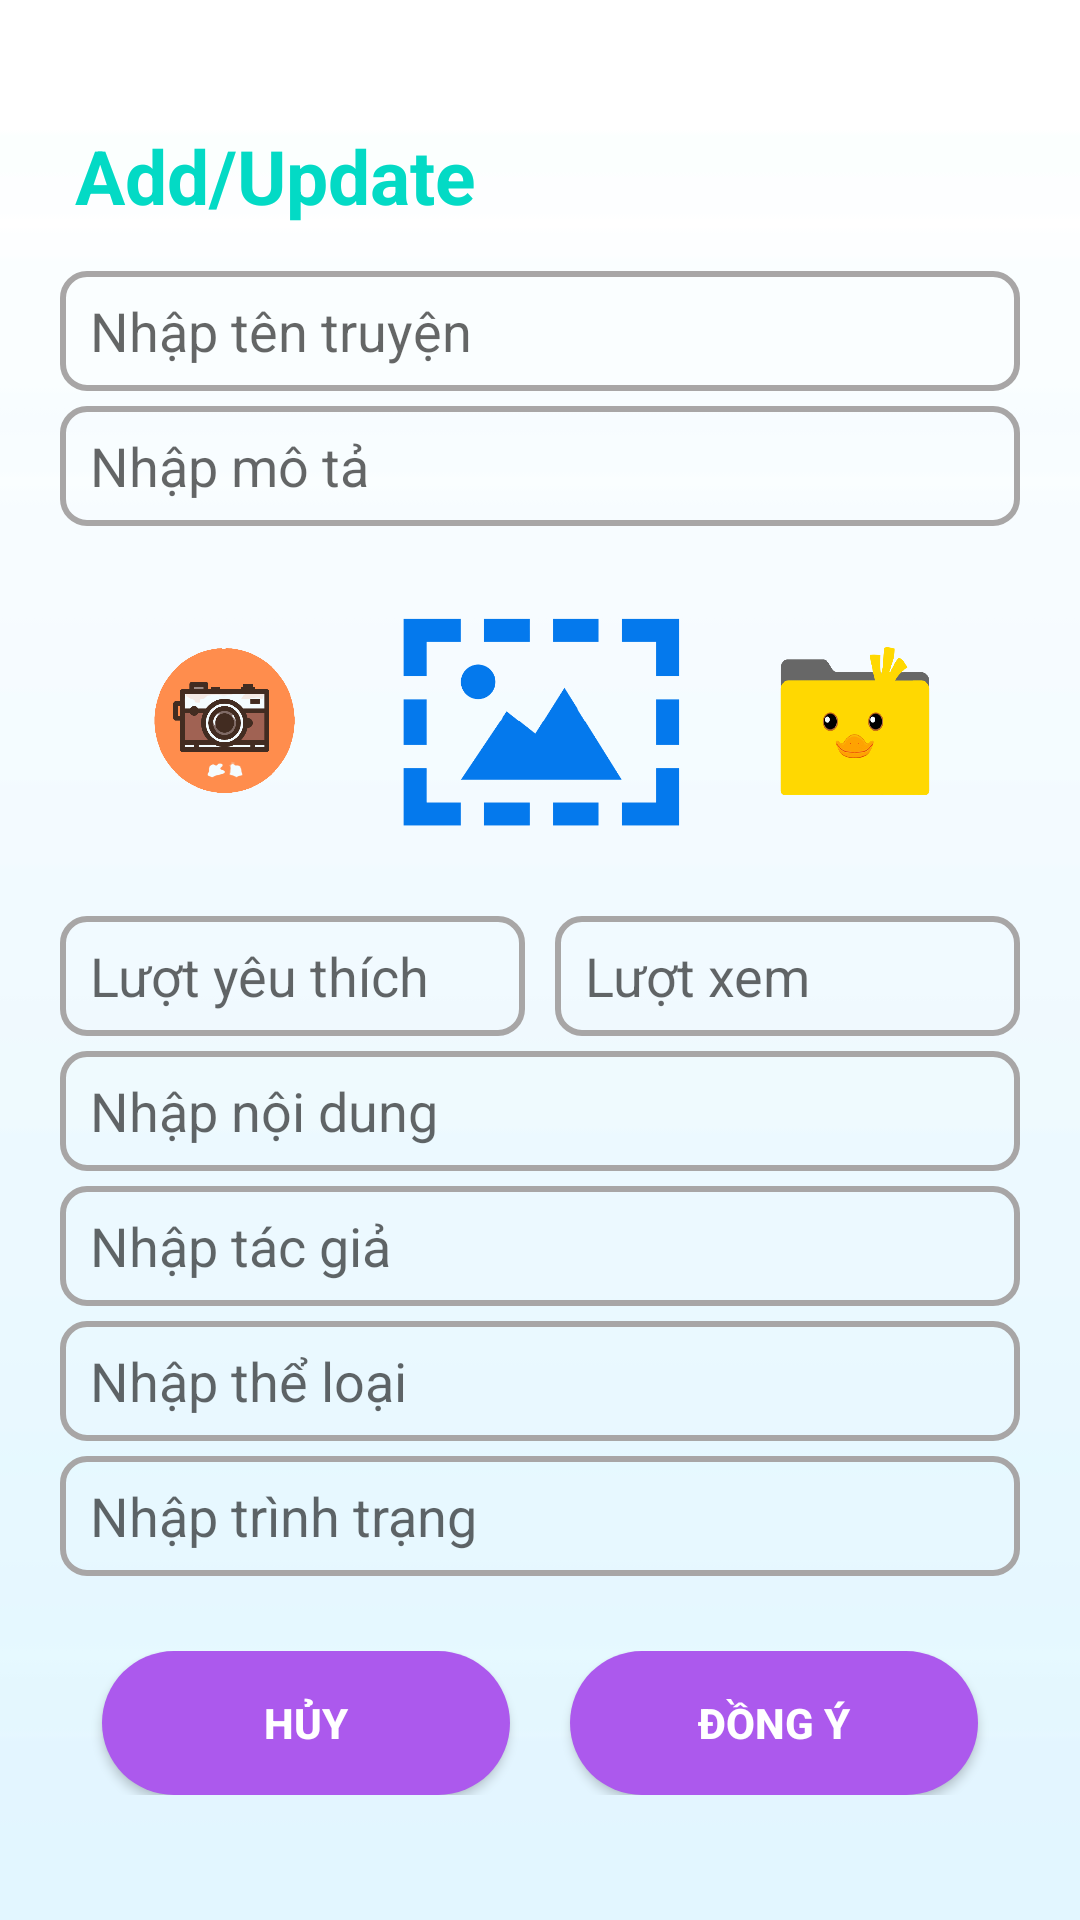

Icon bounding boxes for this 1080px×1920px phone screenshot, format (x1, y1, x2, y2):
camera: (154, 648, 295, 793)
folder: (780, 647, 930, 795)
